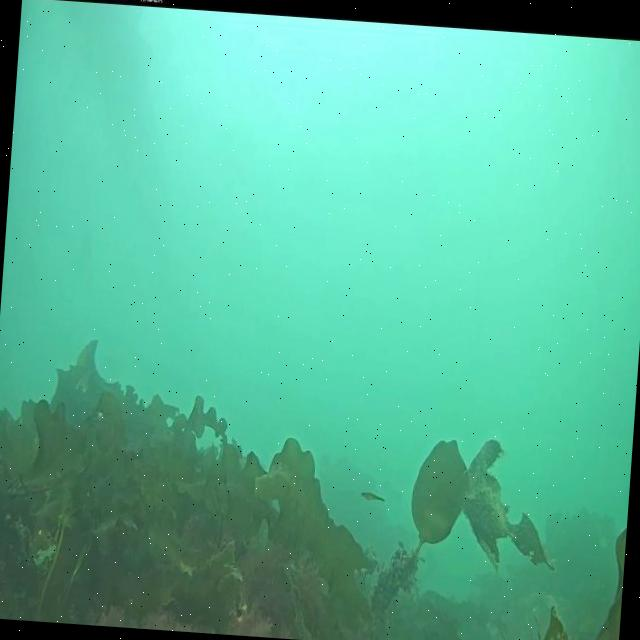fish: (361, 489, 386, 504)
